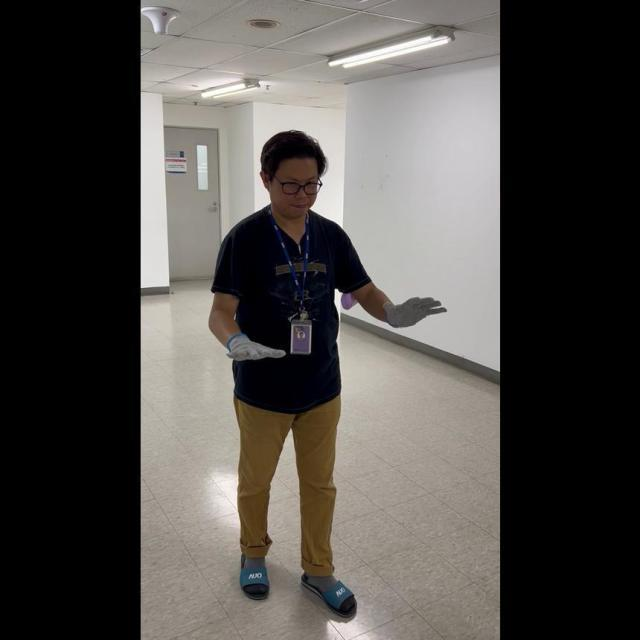gloved_hand: (380, 288, 447, 331), (225, 328, 285, 368)
